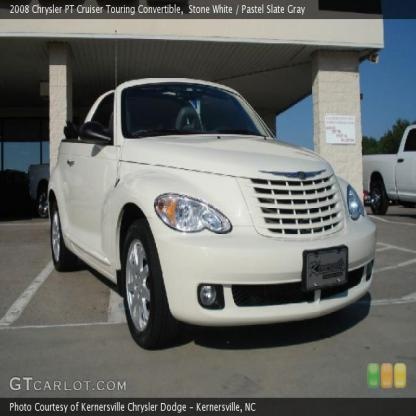Vehicle: (41, 70, 383, 356)
